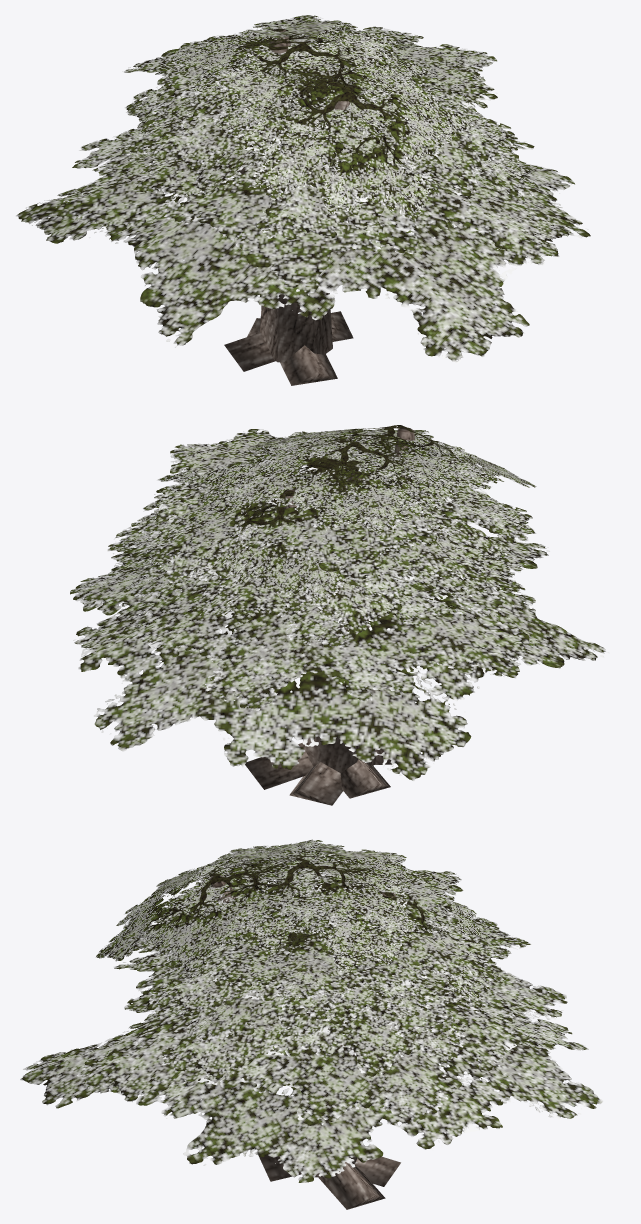
Rendered from oaksno_0.obj.
3 views of the same model, one above another, from view 1: azimuth 30°, elevation 25°; view 2: azimuth 150°, elevation 25°; view 3: azimuth 270°, elevation 25° (orthographic). The views are drawn at different scales.
Visible parts, largest first — view 1: oaksno_0; view 2: oaksno_0; view 3: oaksno_0.
Part boxes in pixels (left/top/right/bottom): oaksno_0: left=16, top=15, right=590, bottom=385; oaksno_0: left=70, top=425, right=609, bottom=805; oaksno_0: left=20, top=839, right=603, bottom=1209.
Bounding box in the file's own units: 17.14 × 9.64 × 17.14.
